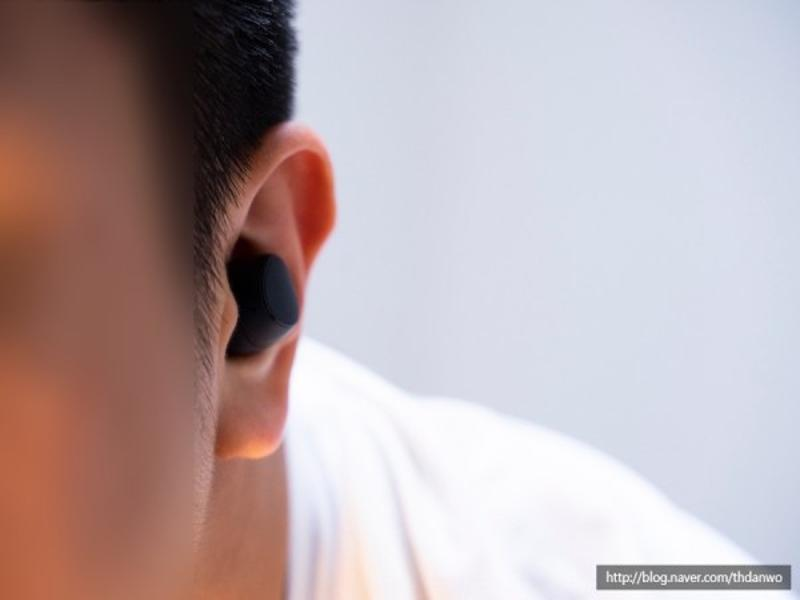headphone: (218, 251, 298, 367)
